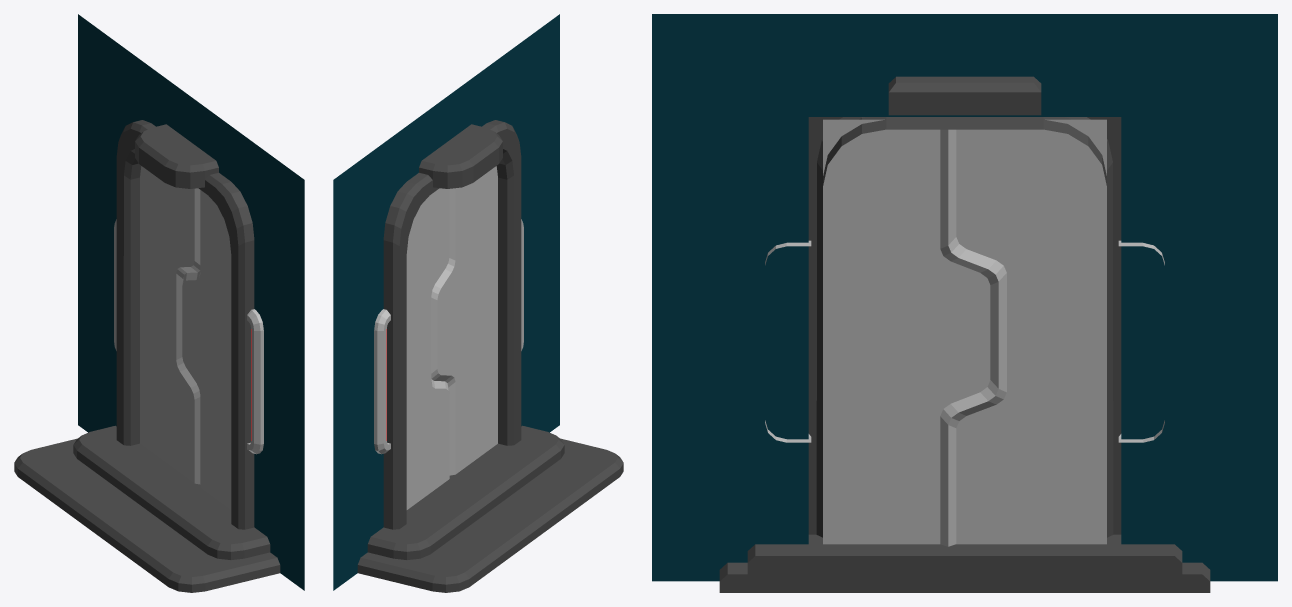
The model's file is AT_LockedDoor.fbx.
The picture shows the model from 3 angles, left to right: view 1: azimuth 30°, elevation 25°; view 2: azimuth 150°, elevation 25°; view 3: azimuth 270°, elevation 25°; orthographic projection. The views are drawn at different scales.
Parts seen in each view (by area): view 1: Cube.6190; view 2: Cube.6190; view 3: Cube.6190.
Boxes of the visible parts, left/top/right/bottom form: Cube.6190: left=14, top=14, right=304, bottom=592; Cube.6190: left=333, top=14, right=623, bottom=592; Cube.6190: left=652, top=14, right=1277, bottom=592.
Bounding box in the file's own units: 1.18 × 4 × 4.
